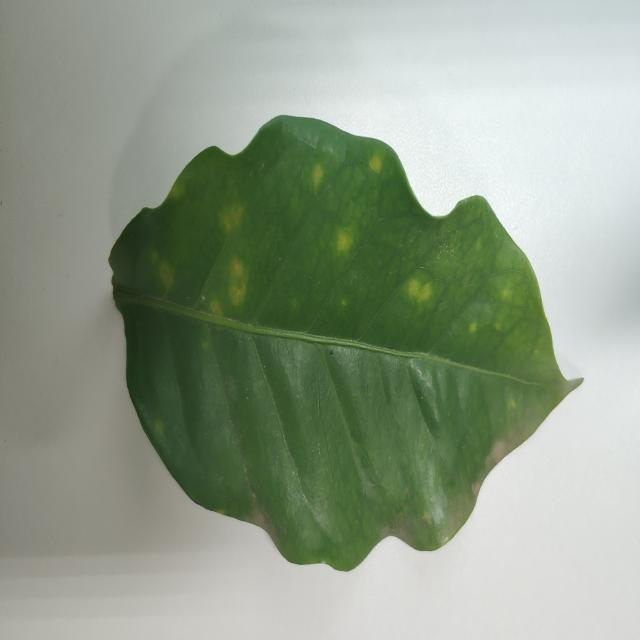Enfermedad-Roya: (107, 116, 584, 575)
